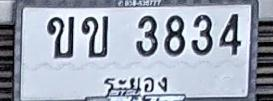3: (136, 15, 158, 56), (192, 14, 212, 54)
4: (220, 13, 240, 54)
8: (164, 14, 185, 55)
A02: (46, 16, 74, 57), (81, 15, 108, 57)
RYG: (100, 72, 175, 97)
